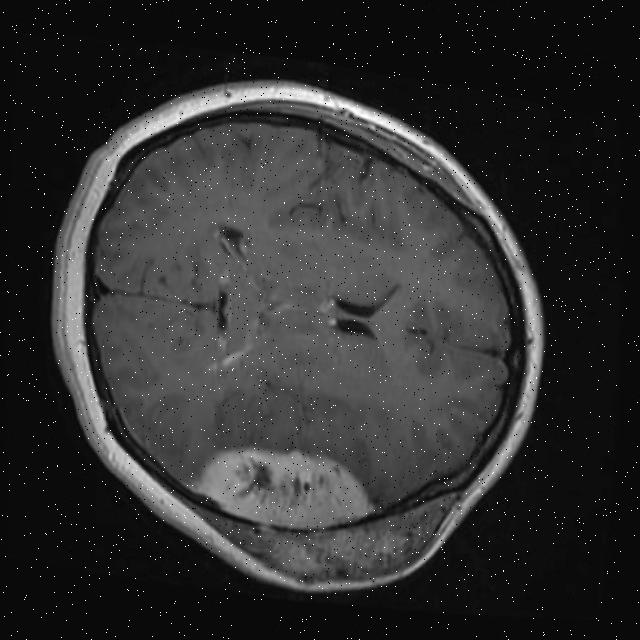Meningioma: (185, 434, 466, 604)
